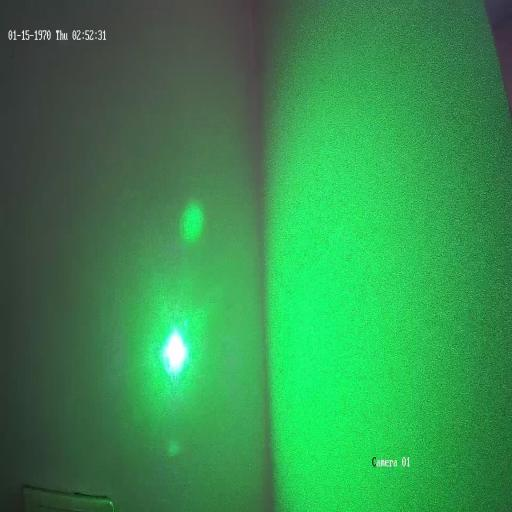laser: (154, 313, 195, 390)
